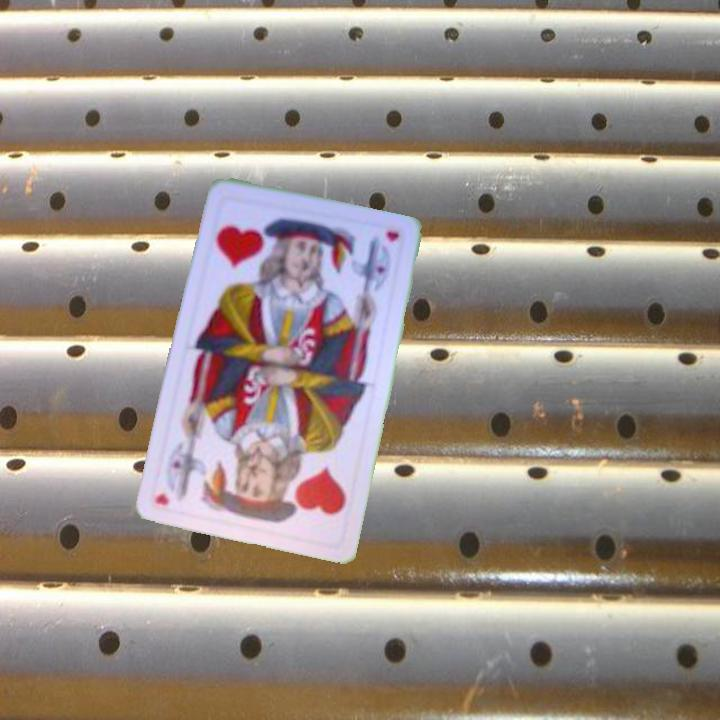h_j.png: (201, 192, 316, 296), (243, 443, 358, 547)
